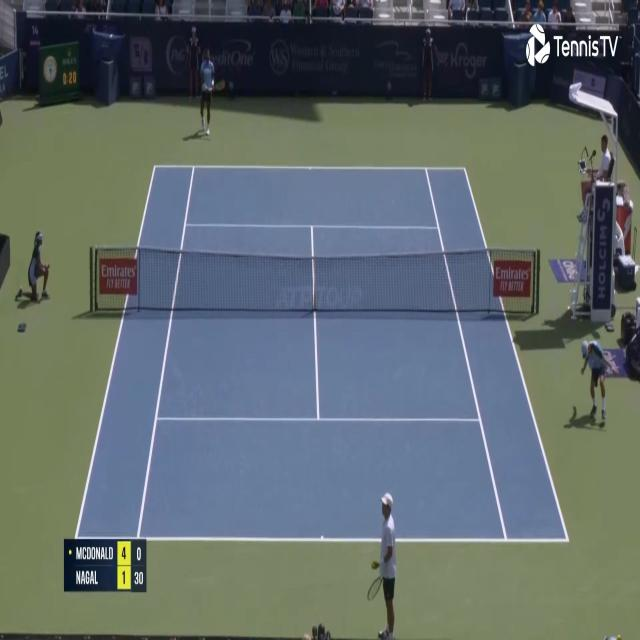tennis-player: (366, 490, 400, 640), (196, 46, 217, 140)
